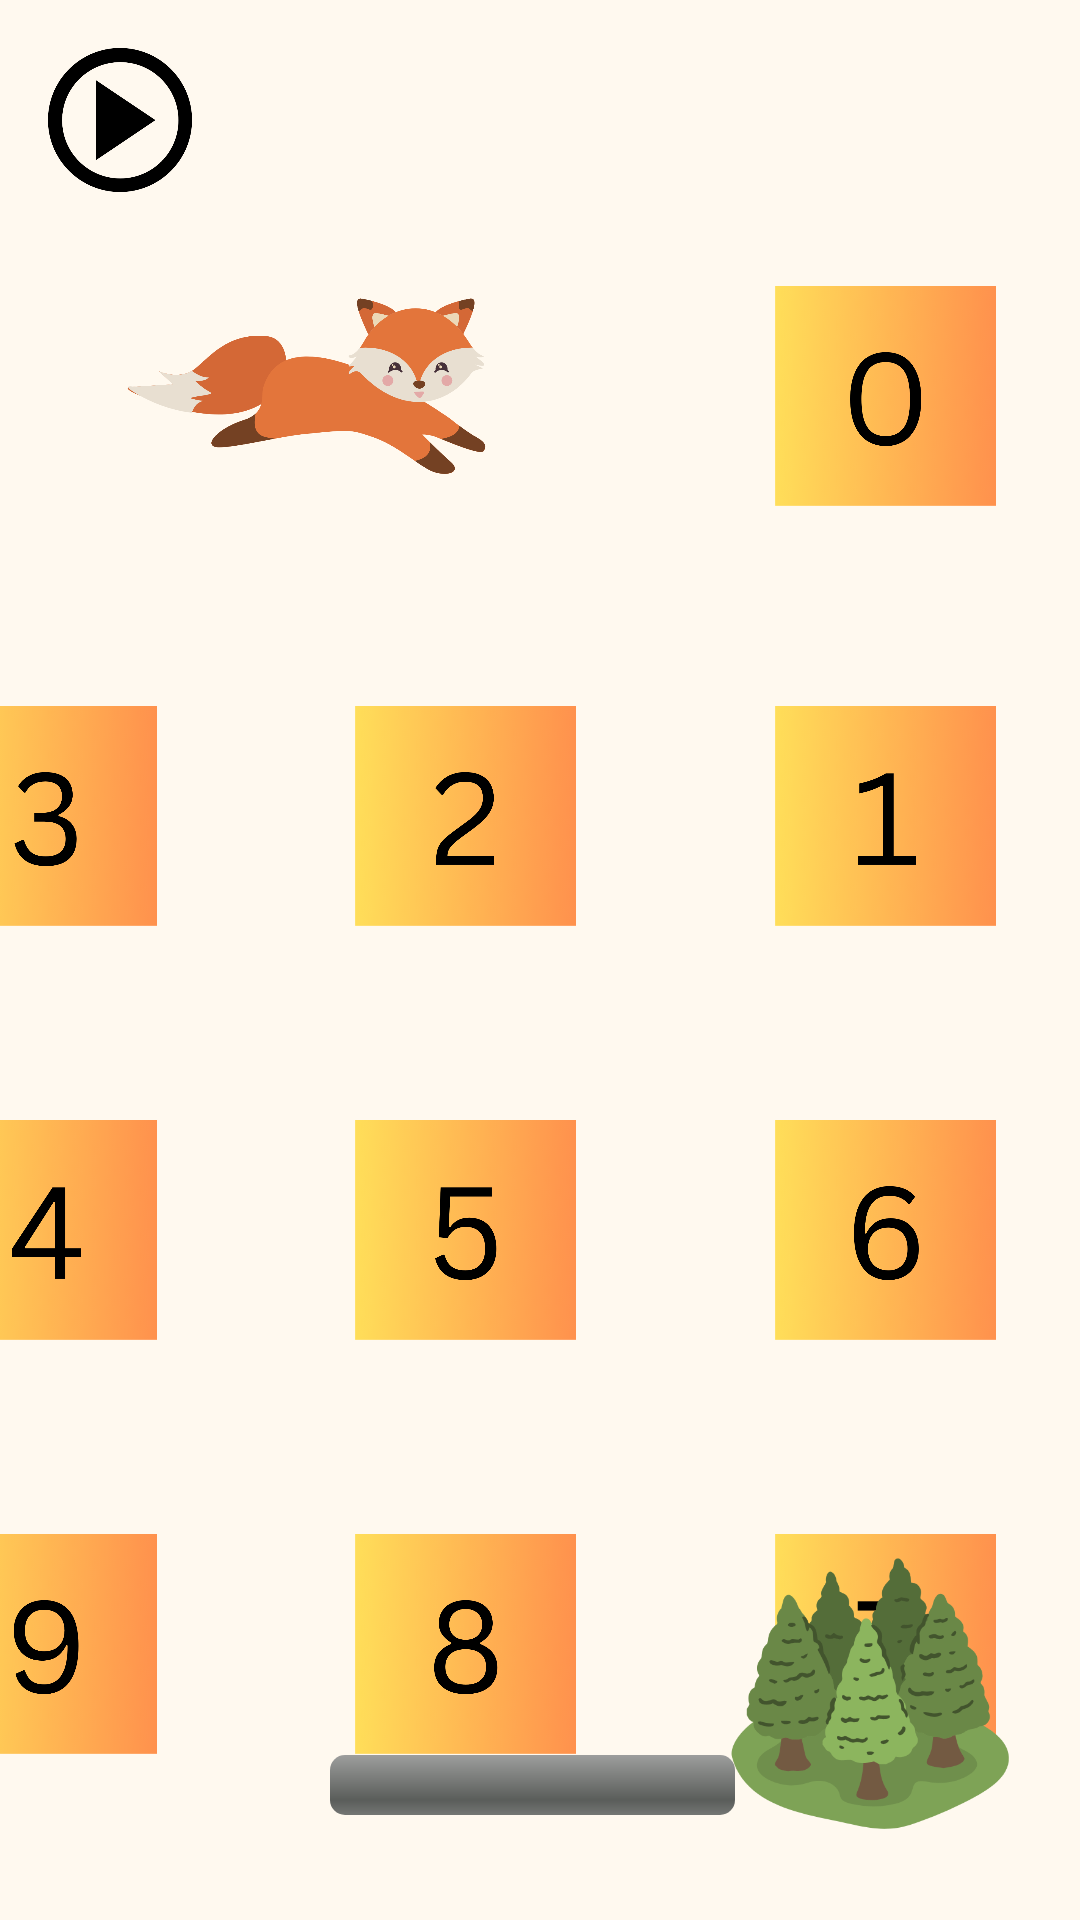

Where icons sit on this 1080 x 1920 app screen, as {"left": x1, "top": y1, "right": x2, "bottom": y2}:
Play Button: {"left": 48, "top": 48, "right": 192, "bottom": 192}
